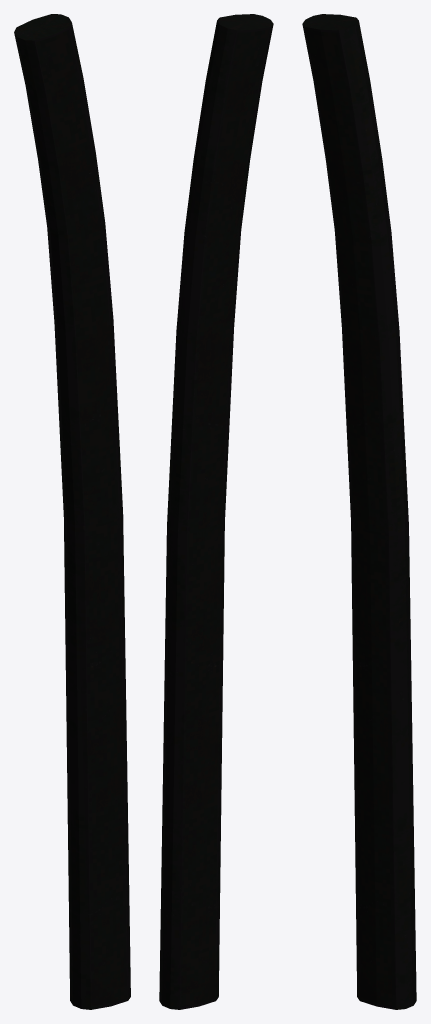
File: KatanaSheath.fbx
The picture shows the model from 3 angles, left to right: view 1: azimuth 30°, elevation 25°; view 2: azimuth 210°, elevation 25°; view 3: azimuth 330°, elevation 25°; orthographic projection. The views are drawn at different scales.
Visible parts, largest first — view 1: SM_WEP_KatanaSheath.mo; view 2: SM_WEP_KatanaSheath.mo; view 3: SM_WEP_KatanaSheath.mo.
Boxes of the visible parts, x1,y1,x2,y2 form: SM_WEP_KatanaSheath.mo: (14,14,130,1009); SM_WEP_KatanaSheath.mo: (159,14,273,1009); SM_WEP_KatanaSheath.mo: (302,14,416,1009).
Bounding box in the file's own units: 13.98 × 119 × 4.53.
1 material, 1 textured.
